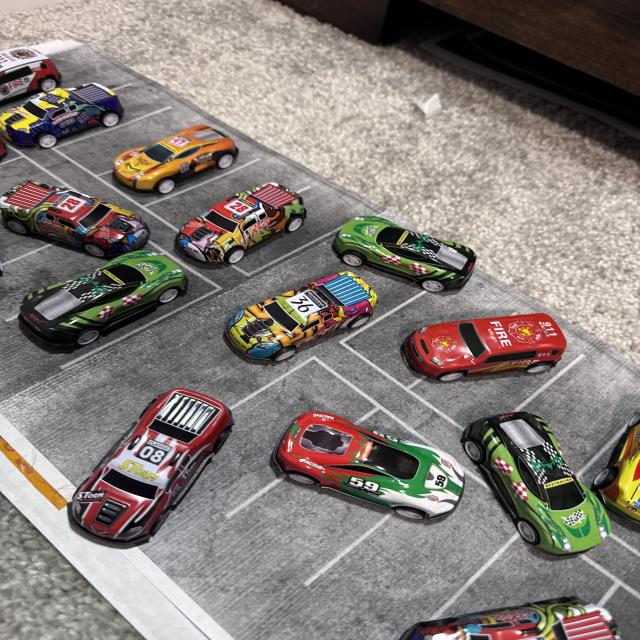Car: (391, 284, 640, 420), (79, 372, 237, 572), (463, 416, 640, 579), (0, 232, 203, 373), (158, 168, 364, 270), (79, 113, 256, 222), (182, 298, 403, 378), (0, 72, 163, 164), (282, 410, 456, 490), (349, 216, 525, 295), (0, 175, 184, 249), (0, 36, 61, 104)
